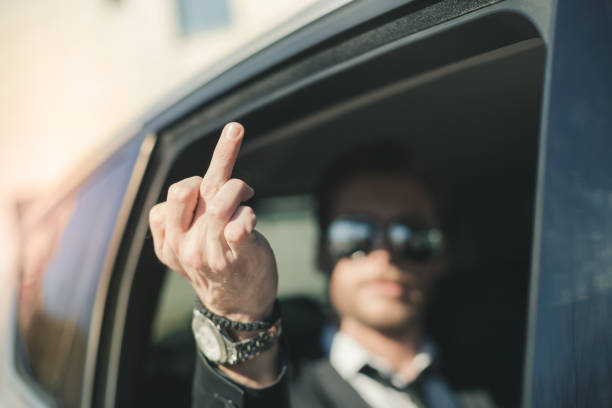insulting_gesture: (144, 119, 280, 307)
